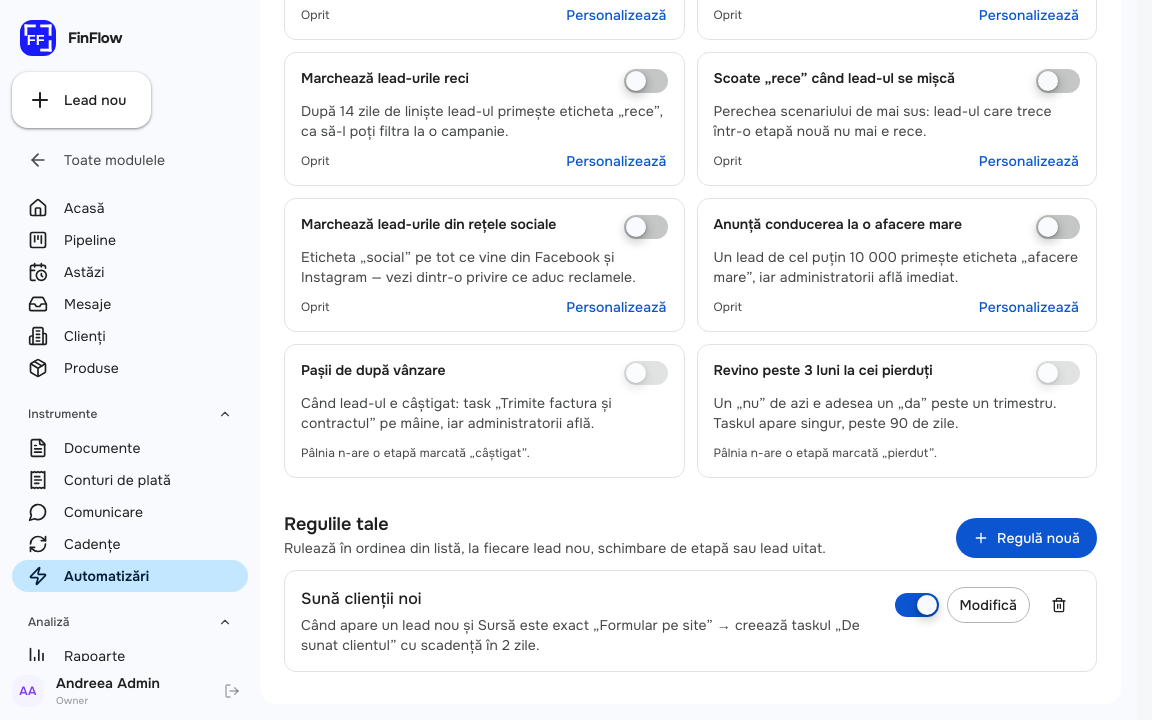
Test case: pagina de automatizări › [blocant] mesajele de validare de la server ajung la om
The image size is (1152, 720).
(page scrolled)
Click the button "Regulă nouă" at point(1026, 538), box x1=956 y1=518 x2=1097 y2=558
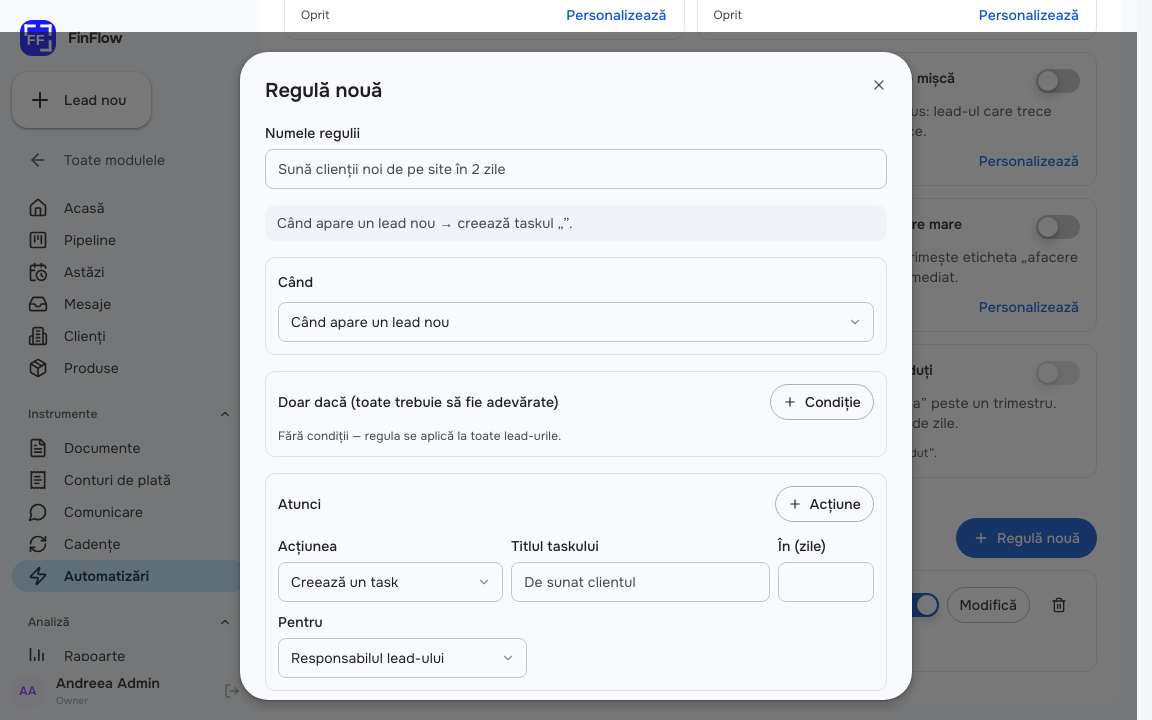
Type "Bucla mea" into the field labelled "Numele regulii" at point(576, 169), box x1=265 y1=149 x2=887 y2=189
(page scrolled)
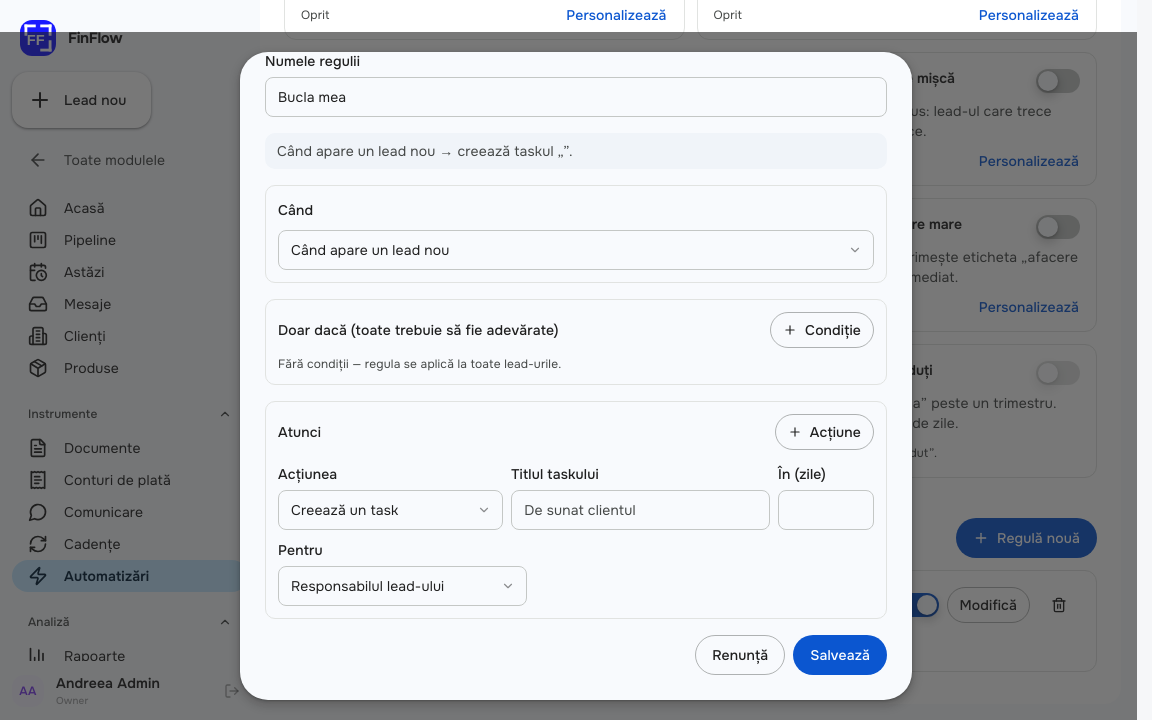
Click the button "Salvează" at point(840, 655), box x1=793 y1=635 x2=887 y2=675
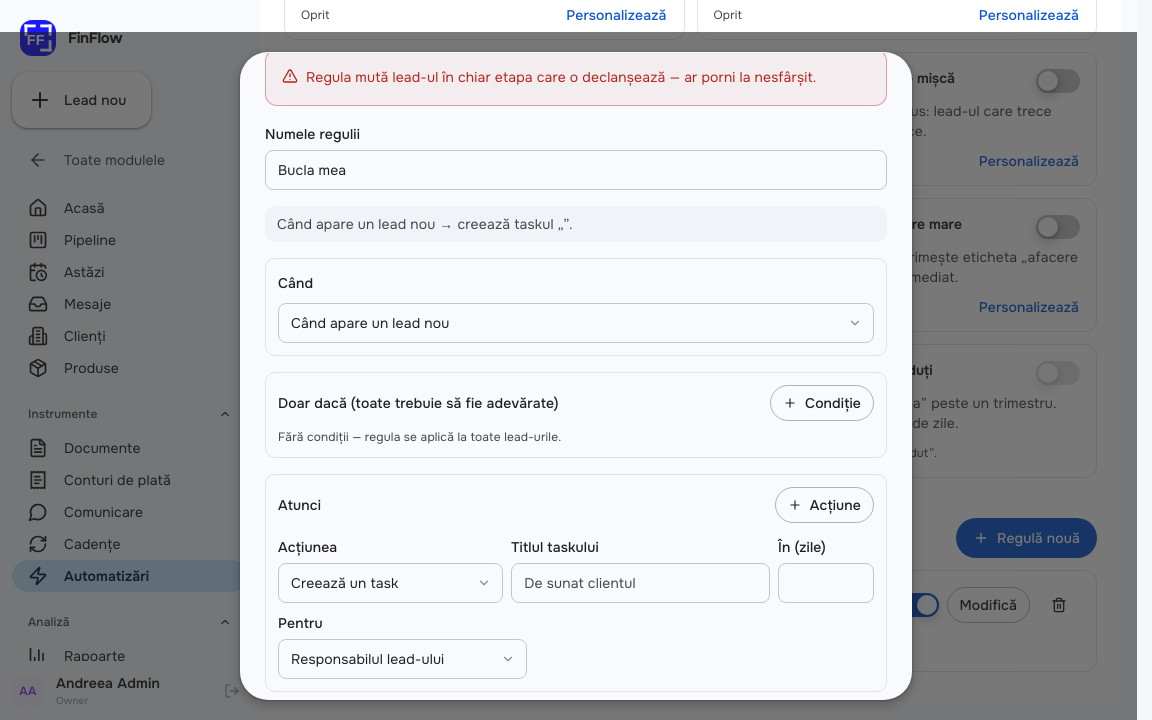
Expected: the text "la nesfârșit" is shown, x1=306 y1=68 x2=816 y2=86
